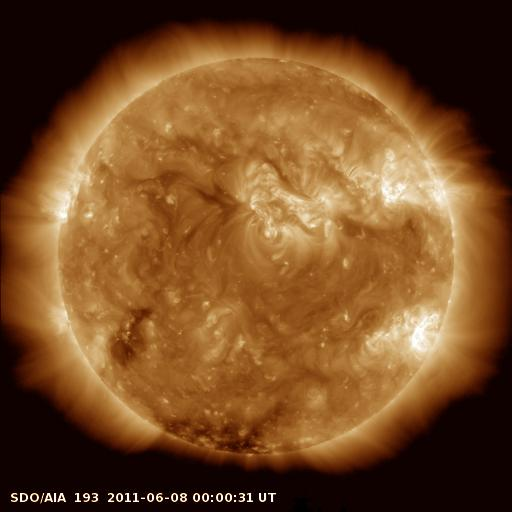coronal_hole: (154, 404, 282, 460), (108, 308, 152, 363)
